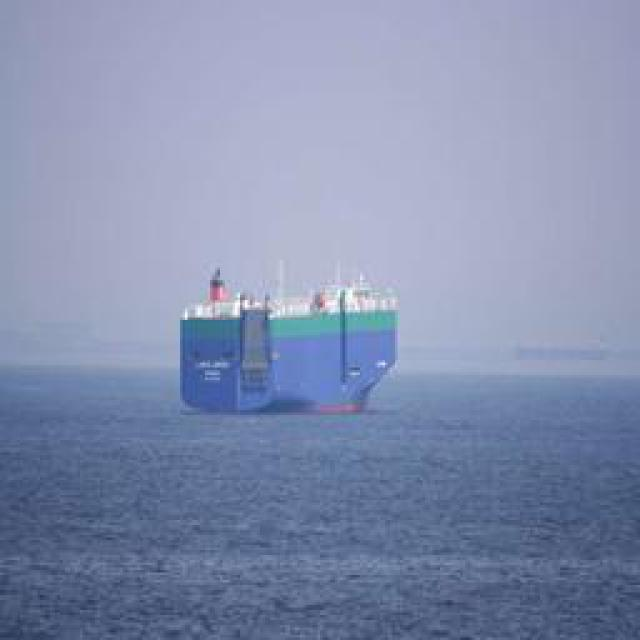Ship: (181, 257, 404, 417)
